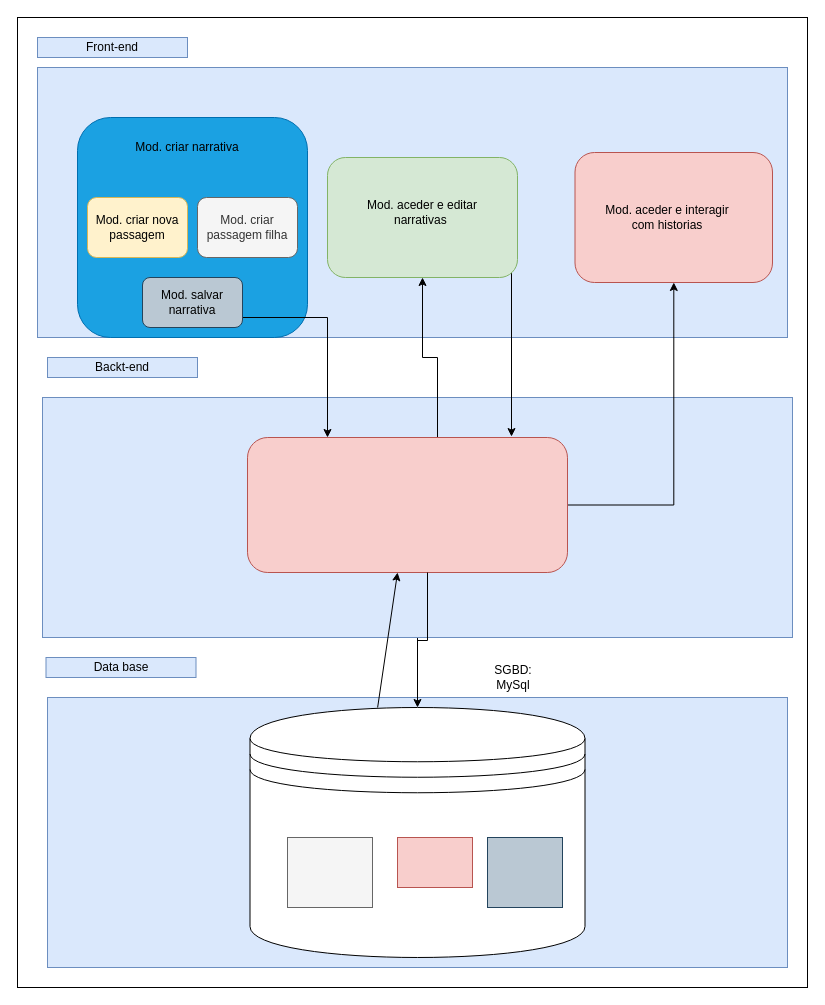
The diagram is 825 pixels wide and 1005 high, and some of its shapes have lost their labels. The centre of each missing label's shape, as x and y in pixels:
Dados da narrativa: point (329, 872)
Dados das Passagens: point (524, 872)
Dados do utilizador: point (434, 862)
Gestão de narrativas e historias criadas: point (407, 504)
